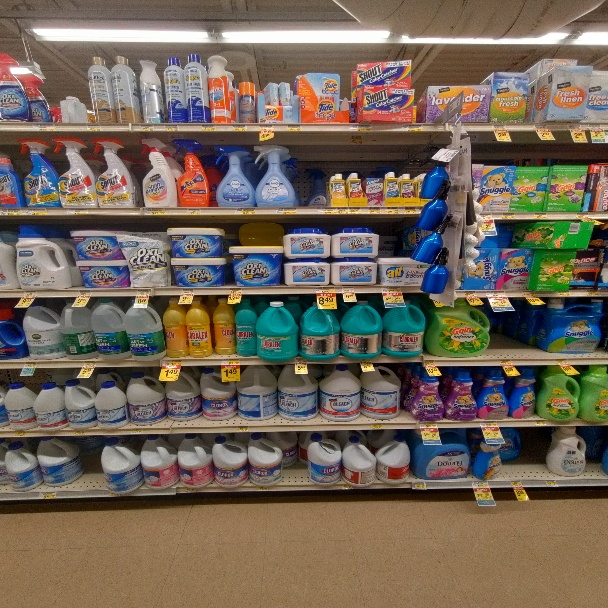All PRICE TAGS: (26, 208, 47, 216), (33, 124, 57, 131), (350, 124, 373, 131), (485, 290, 506, 297), (402, 124, 423, 131), (133, 124, 154, 131), (316, 207, 336, 214), (143, 208, 163, 215), (471, 481, 490, 488), (85, 123, 101, 131), (221, 358, 239, 365), (522, 290, 537, 298), (67, 209, 87, 215), (1, 209, 21, 215), (479, 421, 498, 427), (419, 422, 438, 428), (38, 492, 57, 498), (277, 208, 296, 214), (381, 286, 400, 292), (586, 289, 600, 297), (587, 123, 603, 130), (235, 208, 253, 214), (558, 290, 573, 297), (567, 123, 584, 129), (162, 124, 179, 130), (259, 124, 276, 130), (318, 288, 335, 294), (163, 360, 180, 366), (403, 207, 417, 214), (533, 123, 547, 130), (342, 286, 356, 293), (360, 361, 374, 368), (478, 213, 494, 219), (233, 123, 249, 129), (136, 289, 149, 296), (84, 361, 97, 368), (23, 361, 36, 368), (295, 359, 308, 366), (502, 213, 517, 219), (187, 208, 202, 214), (348, 208, 362, 214), (575, 212, 589, 218), (499, 359, 513, 365), (415, 482, 427, 489), (367, 208, 380, 214), (534, 212, 547, 218), (23, 291, 36, 297), (464, 290, 477, 296), (534, 420, 547, 426), (555, 358, 568, 364), (236, 426, 249, 432), (370, 423, 383, 429), (510, 481, 523, 487), (201, 124, 216, 129), (386, 208, 398, 214), (13, 431, 25, 437), (131, 428, 143, 434), (423, 360, 435, 366), (545, 480, 557, 486), (288, 124, 300, 130), (182, 289, 194, 295), (229, 289, 243, 294), (73, 429, 84, 435), (78, 290, 90, 295), (257, 486, 269, 491), (493, 125, 507, 129), (184, 488, 196, 492), (110, 492, 120, 496), (342, 485, 352, 489), (338, 209, 347, 213)
